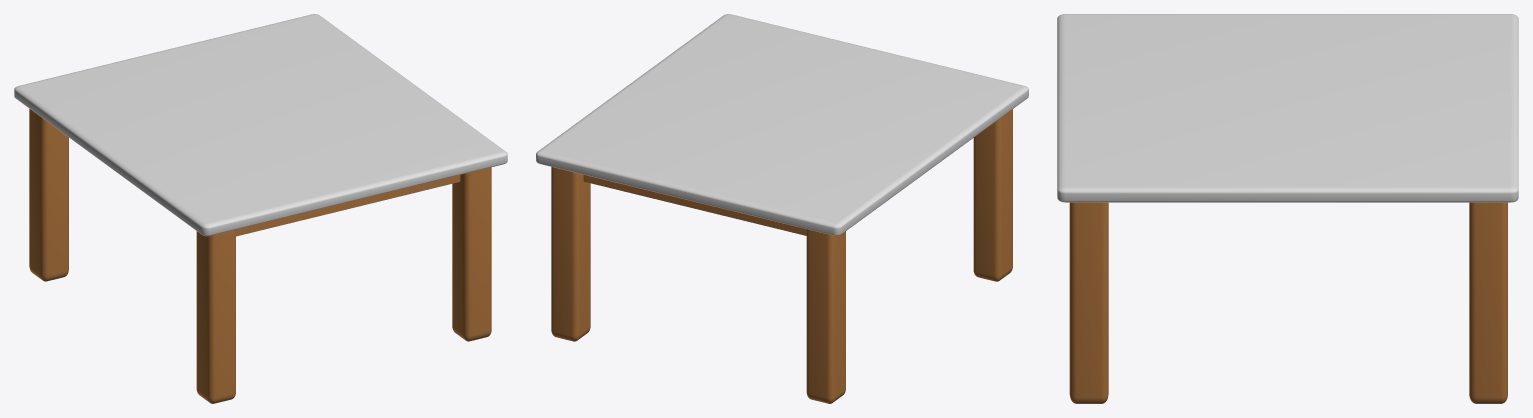
File: simple_square_table_B.obj
3 renders of one model, left to right at view 1: azimuth 30°, elevation 25°; view 2: azimuth 150°, elevation 25°; view 3: azimuth 270°, elevation 25°, orthographic. The views are drawn at different scales.
Parts seen in each view (by area): view 1: simple_square_table_B; view 2: simple_square_table_B; view 3: simple_square_table_B.
Boxes of the visible parts, <box> form: simple_square_table_B: <box>14,14,507,403</box>; simple_square_table_B: <box>536,14,1028,403</box>; simple_square_table_B: <box>1057,14,1518,403</box>.
Size of the model in its own units: 1.62 by 0.9456 by 1.77.
